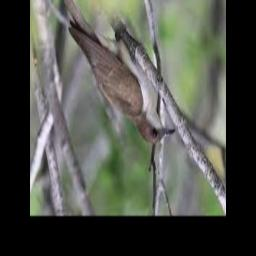Cuckoo: (50, 0, 176, 143)
